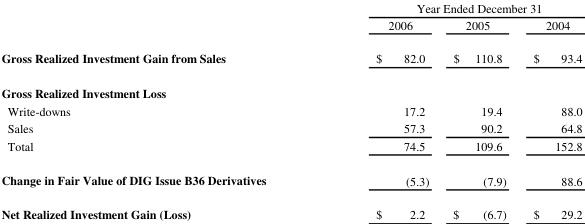table: (0, 1, 581, 221)
table column: (0, 1, 320, 221), (320, 1, 440, 221), (440, 1, 519, 221), (519, 1, 581, 221)
table column header: (0, 1, 581, 40)
table projected row header: (0, 75, 581, 101)
table row: (0, 40, 581, 75), (0, 162, 581, 196), (0, 75, 581, 101), (0, 136, 581, 162), (0, 196, 581, 221), (0, 16, 581, 40), (0, 101, 581, 119), (0, 119, 581, 136), (0, 1, 581, 16)
table spanning cell: (320, 1, 581, 16)
